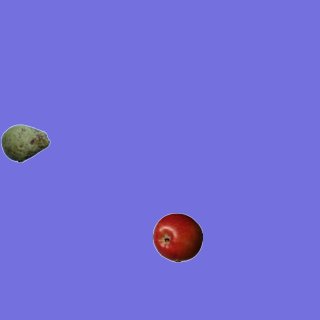Apple Braeburn: (152, 212, 202, 262)
Pear Stone: (0, 118, 50, 168)
